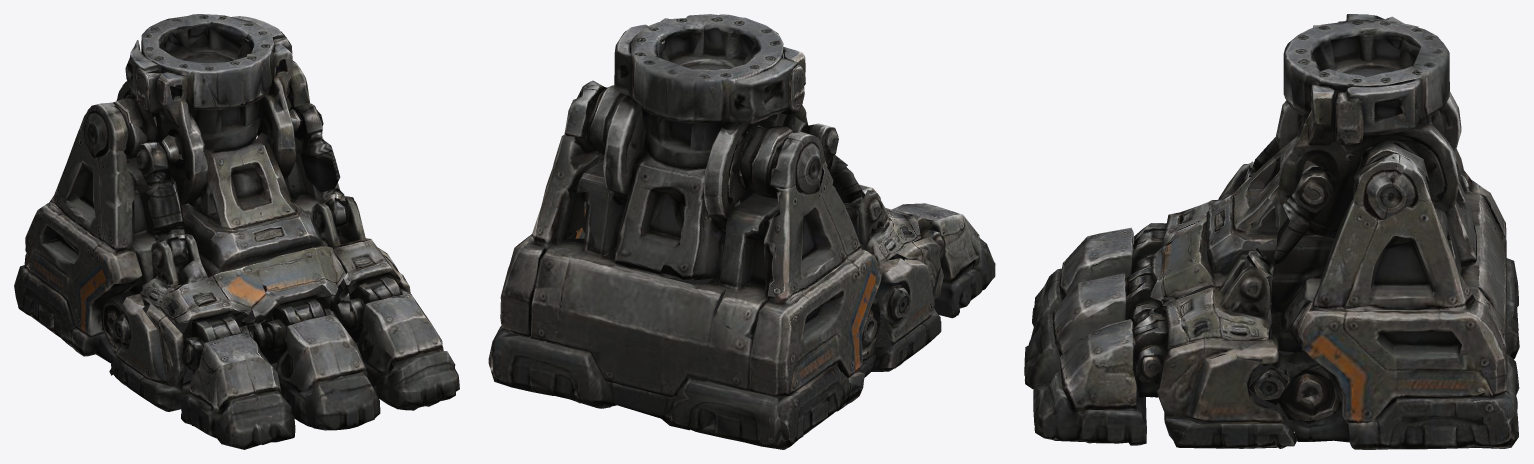
Rendered from foot.glb.
3 renders of one model, left to right at view 1: azimuth 30°, elevation 25°; view 2: azimuth 150°, elevation 25°; view 3: azimuth 270°, elevation 25°, orthographic. The views are drawn at different scales.
Visible parts, largest first — view 1: tripo_part_0; view 2: tripo_part_0; view 3: tripo_part_0.
Part boxes in pixels (box(x1,y1,x2,y2)): tripo_part_0: box(14, 14, 459, 449); tripo_part_0: box(488, 14, 995, 449); tripo_part_0: box(1024, 14, 1519, 449).
Size of the model in its own units: 0.7024 by 0.7101 by 0.9786.
Materials: 1 (1 with a texture image).
